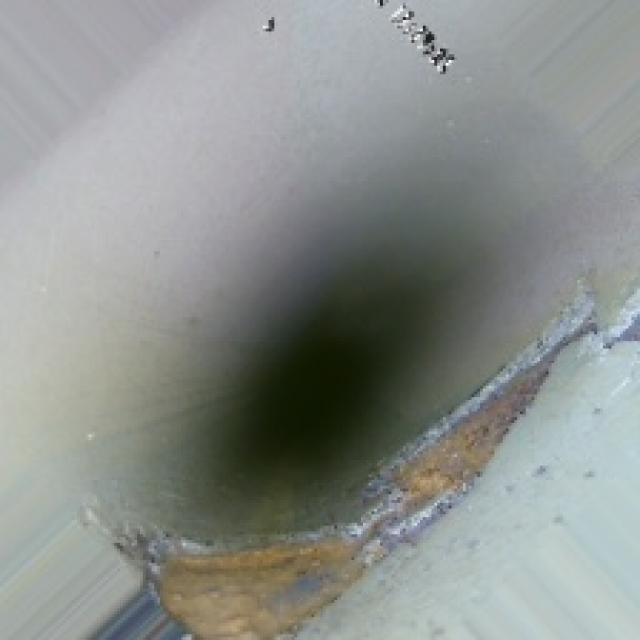pipe_surface_damage: (106, 360, 614, 629)
